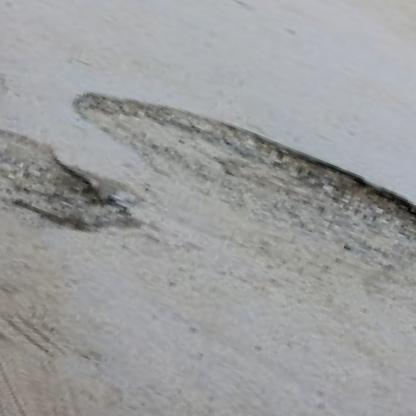pothole: (51, 60, 416, 318), (0, 90, 158, 281), (0, 22, 27, 162)
